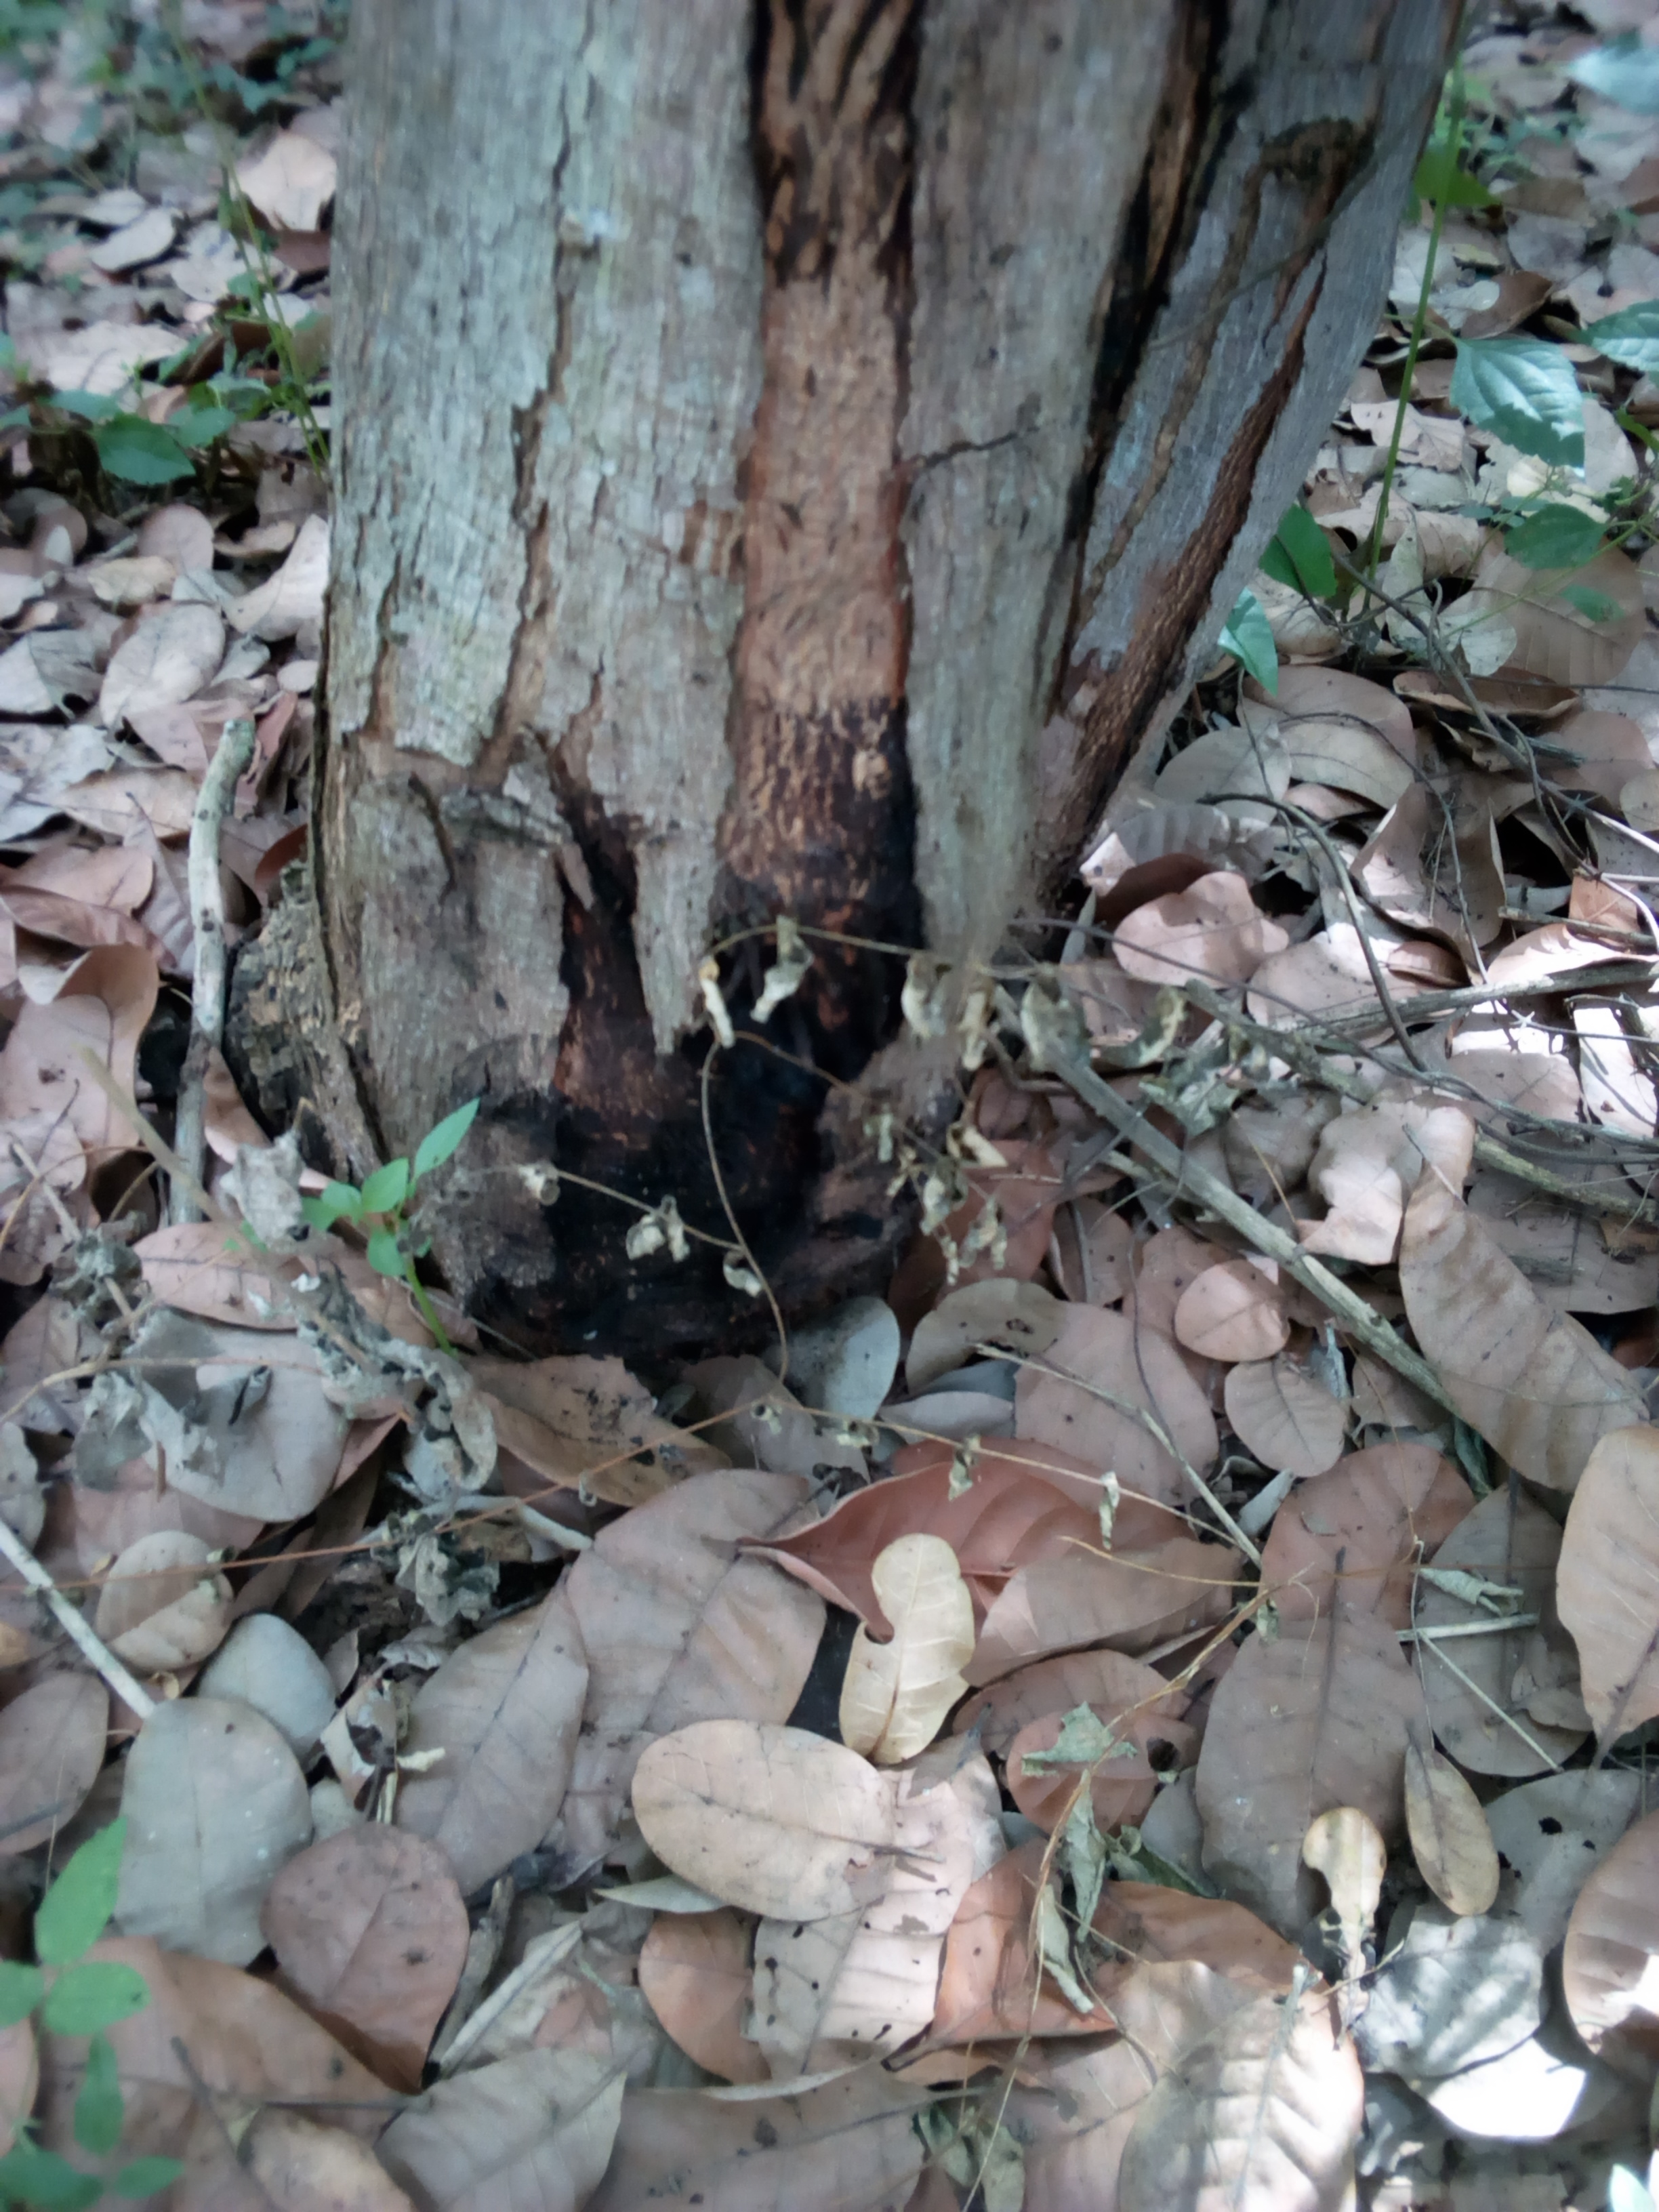Gommose: (538, 964, 924, 1360)
